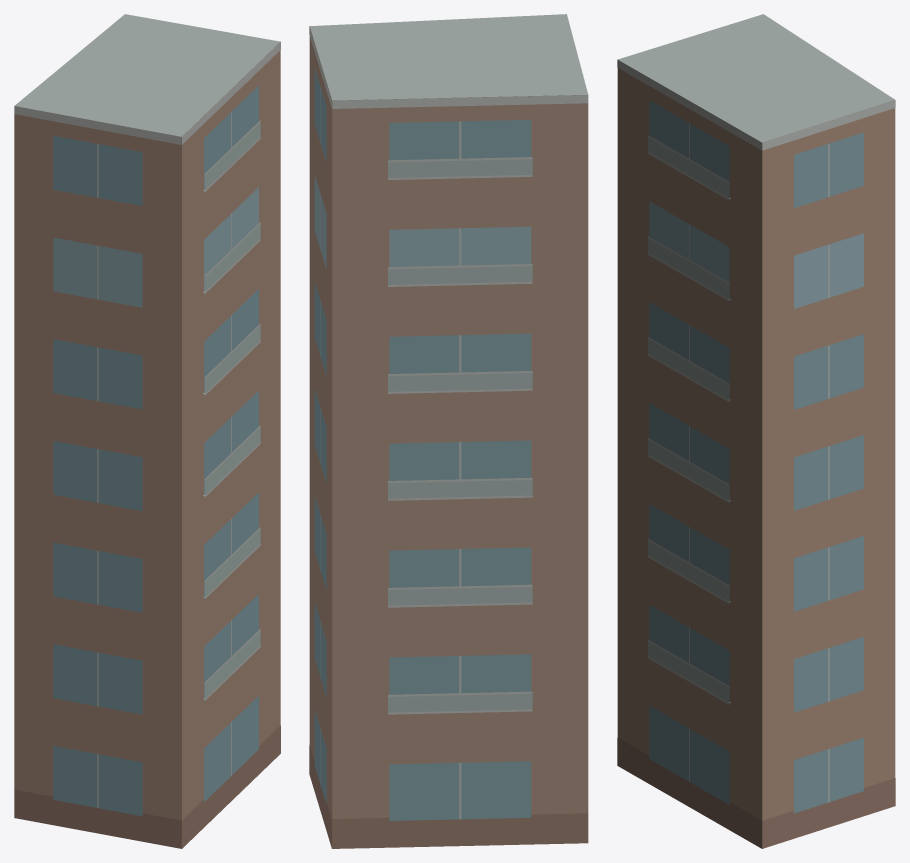
The model's file is survey-upis-33009991.glb.
3 renders of one model, left to right at view 1: azimuth 30°, elevation 25°; view 2: azimuth 150°, elevation 25°; view 3: azimuth 270°, elevation 25°, orthographic. The views are drawn at different scales.
Parts seen in each view (by area): view 1: survey-upis-33009991.tmp; view 2: survey-upis-33009991.tmp; view 3: survey-upis-33009991.tmp.
Part boxes in pixels (x1=…): survey-upis-33009991.tmp: x1=14, y1=14, x2=280, y2=848; survey-upis-33009991.tmp: x1=309, y1=14, x2=588, y2=848; survey-upis-33009991.tmp: x1=617, y1=14, x2=895, y2=848.
Bounding box in the file's own units: 8.35 × 21.35 × 7.62.
